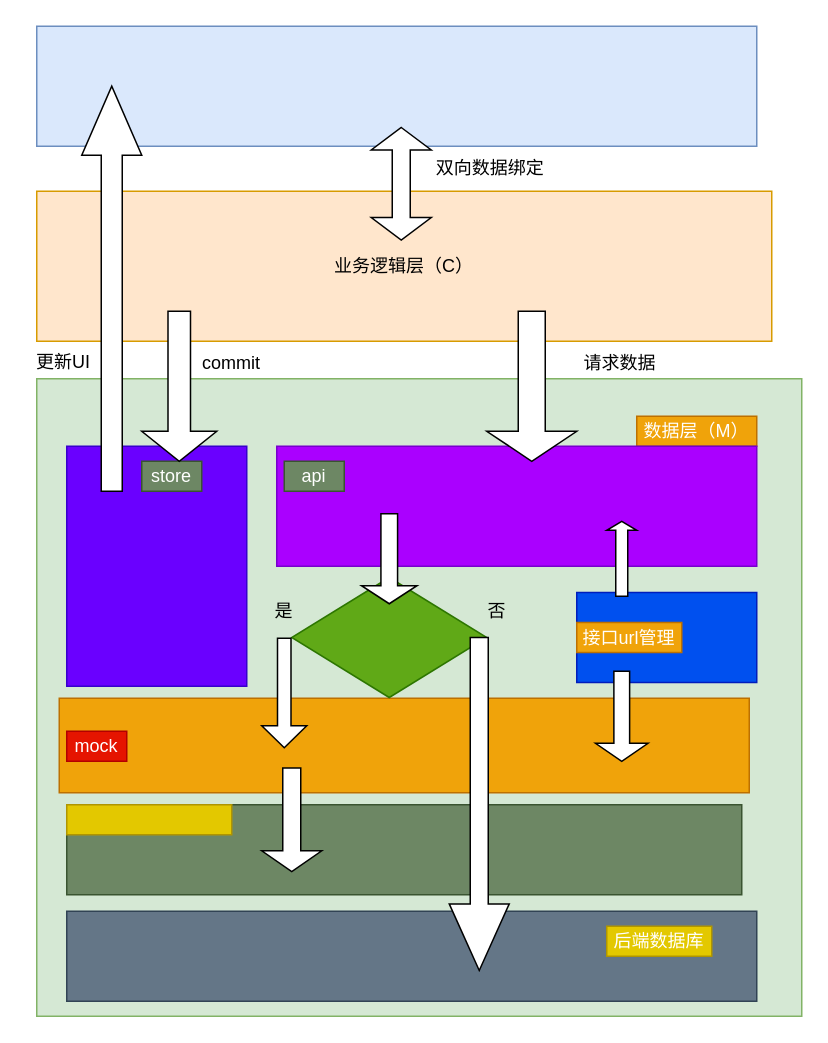
Some shapes in this 828 by 1043 pixel diagram are drawn without their labels. Here are the shapes that lost their labels. From the top down, the centre of each, then its label:
At (396,85): "UI层（V）".
At (388,637): "是否开启了mock".
At (148,819): "前端持久化数据库".
